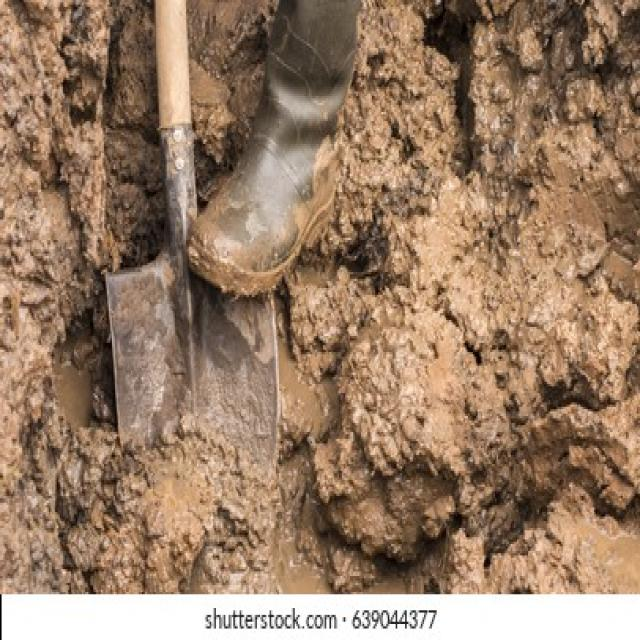Clay Soil: (394, 58, 610, 556), (31, 61, 102, 532)
